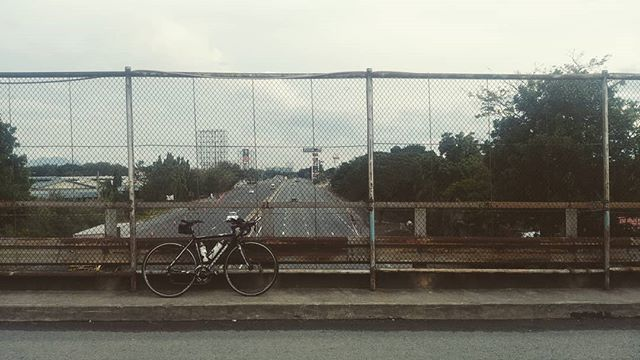bicicle: (139, 207, 283, 300)
building: (192, 127, 233, 168)
sky: (1, 1, 621, 117)
vegetation: (351, 79, 640, 231)
